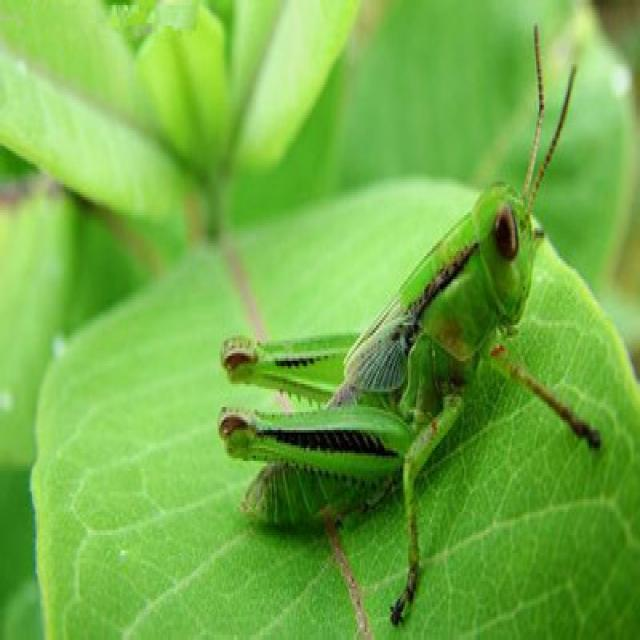ZhaMeng: (200, 177, 580, 577)
